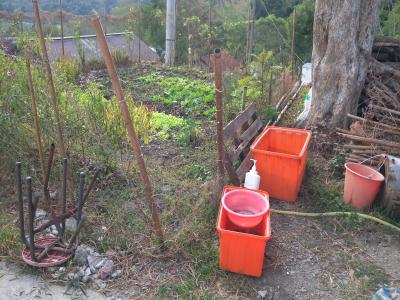bowl: (220, 188, 273, 230)
box: (212, 185, 274, 280), (248, 123, 316, 205)
bucket: (341, 159, 386, 213)
